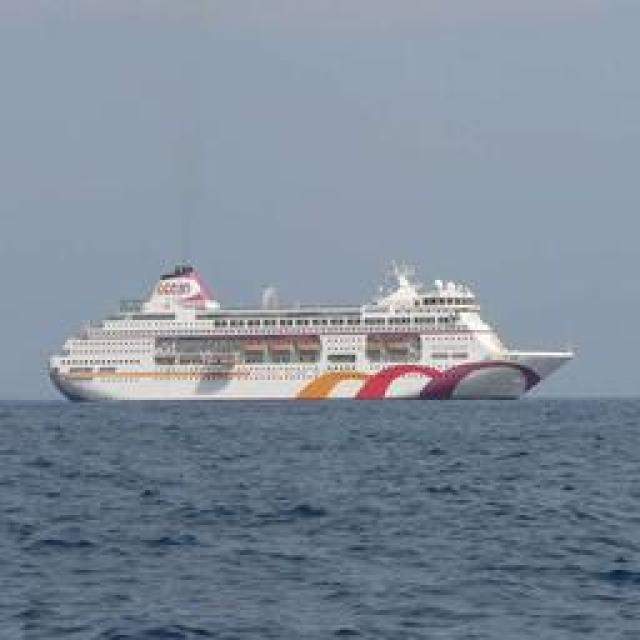CIV_Ship: (50, 257, 425, 405)
